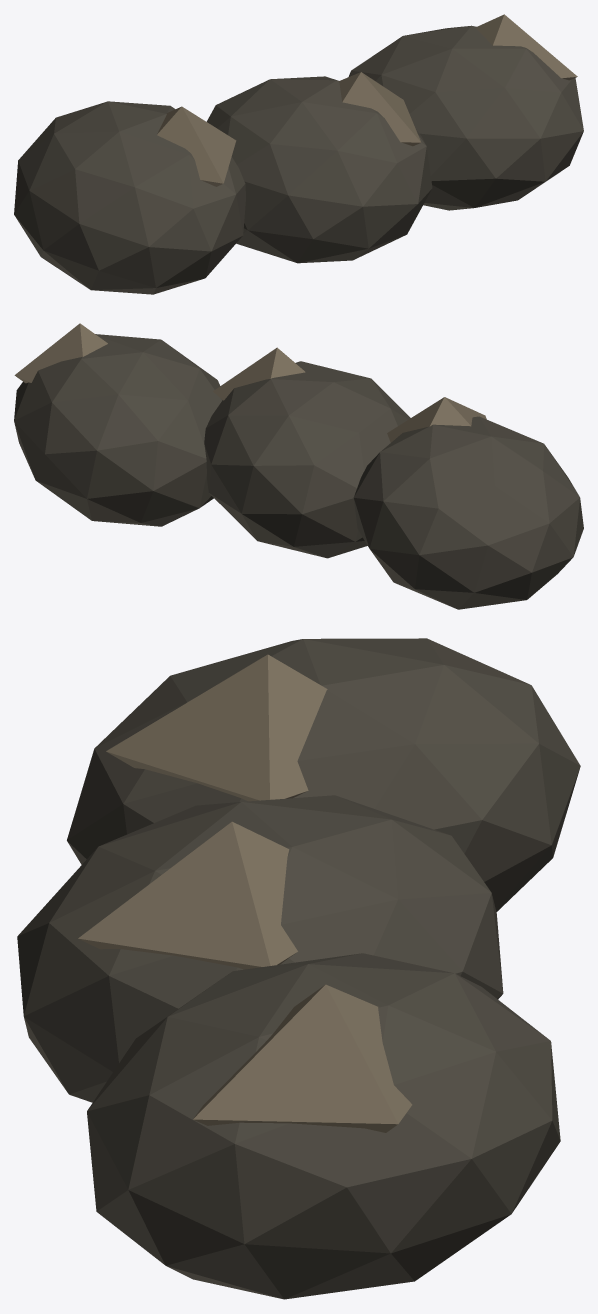
The model's file is pile-stone-3.obj.
3 views of the same model, one above another, from view 1: azimuth 30°, elevation 25°; view 2: azimuth 150°, elevation 25°; view 3: azimuth 270°, elevation 25° (orthographic). The views are drawn at different scales.
Visible parts, largest first — view 1: pile-stone-3; view 2: pile-stone-3; view 3: pile-stone-3.
Part boxes in pixels (<box>): pile-stone-3: <box>14,14,583,294</box>; pile-stone-3: <box>14,323,583,609</box>; pile-stone-3: <box>17,638,580,1299</box>.
Bounding box in the file's own units: 0.8581 × 0.2639 × 0.3996.
Materials: 1 (1 with a texture image).
